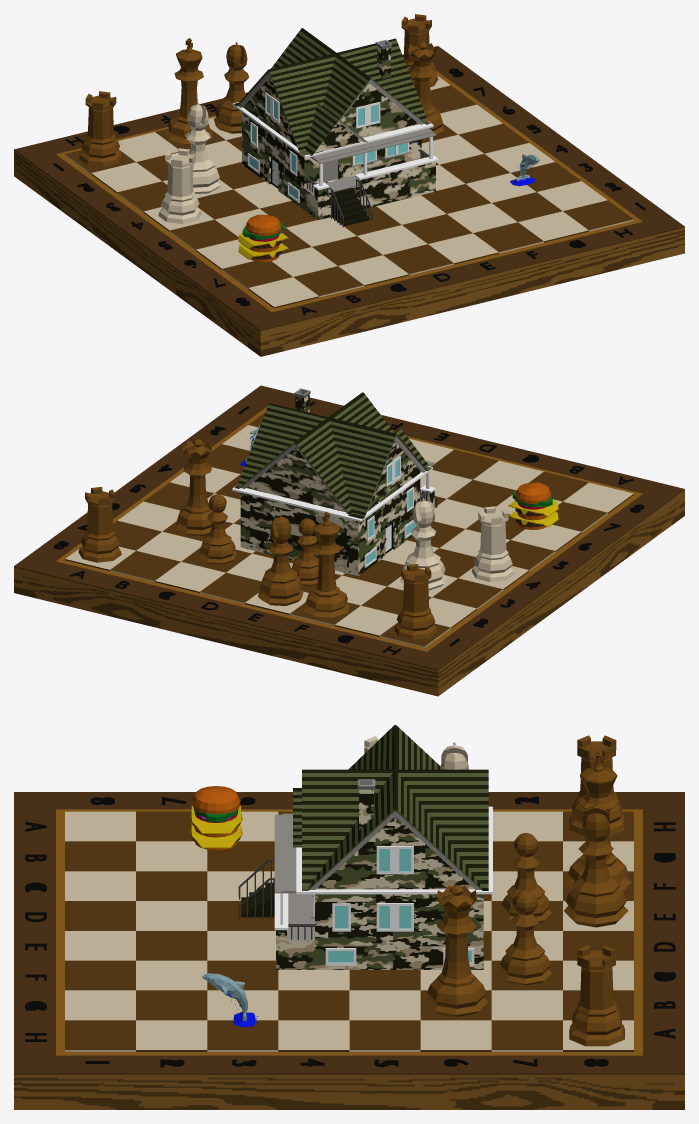
3 renders of one model, top to bottom at view 1: azimuth 30°, elevation 25°; view 2: azimuth 150°, elevation 25°; view 3: azimuth 270°, elevation 25°, orthographic. The views are drawn at different scales.
Parts seen in each view (by area): view 1: Cube.002, Cube.001, OBJRANDOM_HAMBURGER; view 2: Cube.002, Cube.001, OBJRANDOM_HAMBURGER; view 3: Cube.002, Cube.001, OBJRANDOM_HAMBURGER, ANIMAL_DELFIN.
Boxes of the visible parts, left/top/right/bottom form: Cube.002: left=14, top=14, right=684, bottom=356; Cube.001: left=232, top=28, right=438, bottom=227; OBJRANDOM_HAMBURGER: left=238, top=214, right=288, bottom=262; Cube.002: left=14, top=385, right=684, bottom=696; Cube.001: left=232, top=388, right=437, bottom=575; OBJRANDOM_HAMBURGER: left=508, top=482, right=558, bottom=529; Cube.002: left=14, top=735, right=684, bottom=1109; Cube.001: left=238, top=725, right=492, bottom=969; OBJRANDOM_HAMBURGER: left=190, top=786, right=242, bottom=850; ANIMAL_DELFIN: left=202, top=973, right=257, bottom=1027.
Bounding box in the file's own units: 3981 × 1588 × 4012.
Materials: 28 (4 with a texture image).
